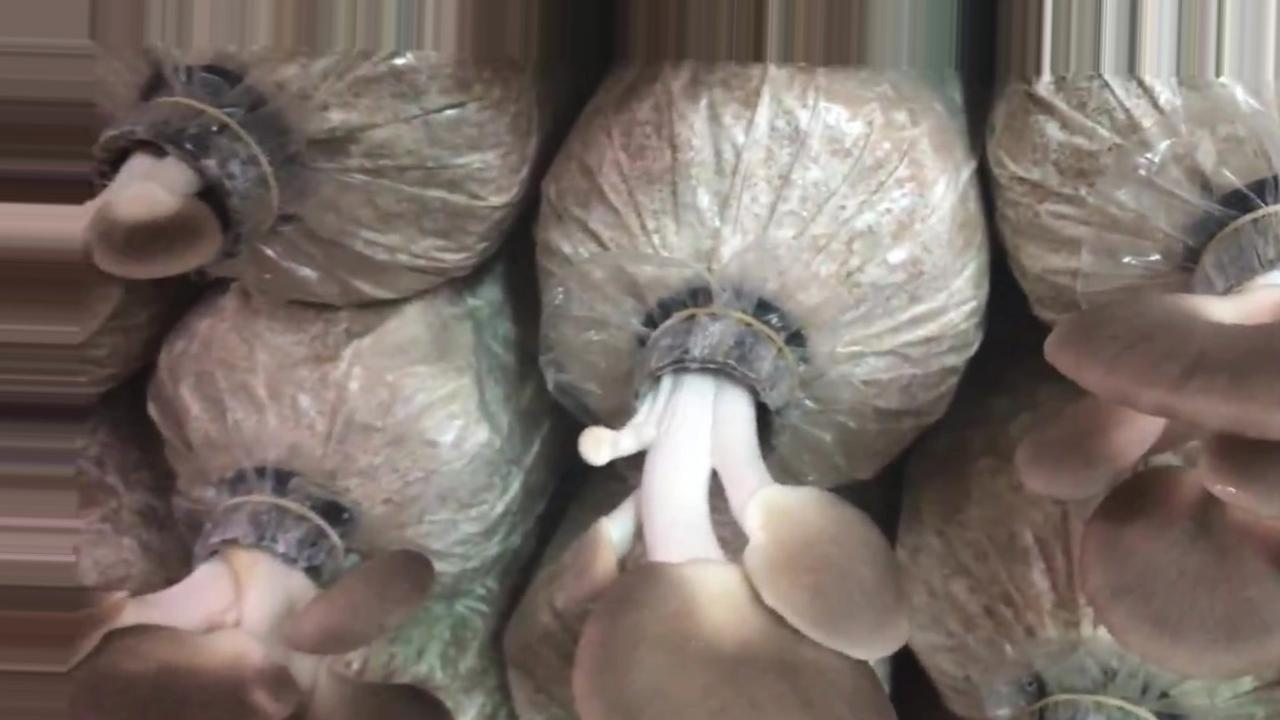nam: (504, 309, 916, 720), (1018, 202, 1280, 682), (78, 499, 452, 720), (1, 99, 278, 345)
